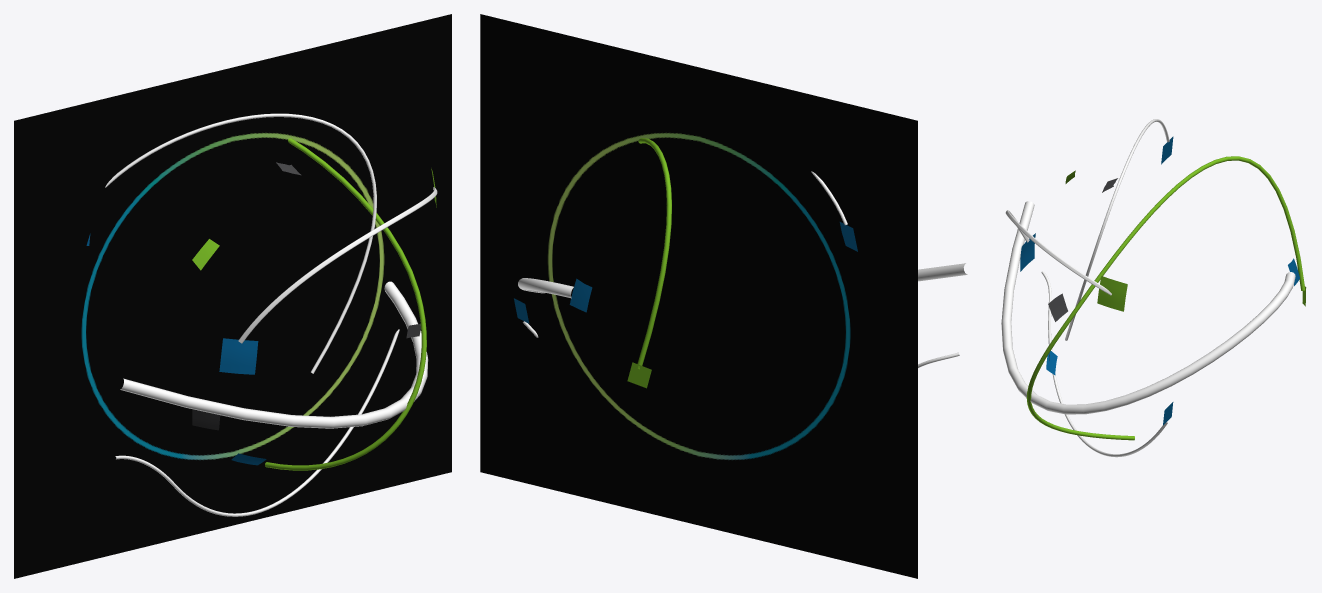
Rendered from sps-globe.glb.
3 renders of one model, left to right at view 1: azimuth 30°, elevation 25°; view 2: azimuth 150°, elevation 25°; view 3: azimuth 270°, elevation 25°, orthographic. The views are drawn at different scales.
Parts seen in each view (by area): view 1: border, BézierCurve.001, BézierCurve.002, BézierCurve.003, BézierCurve.004, BézierCurve, Sphere.001; view 2: border, BézierCurve.002, BézierCurve.001; view 3: BézierCurve.001, BézierCurve.002, BézierCurve.003, BézierCurve.004, Sphere.011, BézierCurve.
Part boxes in pixels (box(x1,y1,x2,y2)): border: box(14, 14, 451, 578); BézierCurve.001: box(120, 281, 428, 428); BézierCurve.002: box(265, 138, 426, 470); BézierCurve.003: box(105, 113, 376, 373); BézierCurve.004: box(115, 329, 399, 516); BézierCurve: box(238, 187, 437, 343); Sphere.001: box(219, 338, 258, 374); border: box(480, 14, 917, 578); BézierCurve.002: box(637, 138, 671, 369); BézierCurve.001: box(518, 263, 967, 298); BézierCurve.001: box(1001, 201, 1295, 414); BézierCurve.002: box(1026, 156, 1304, 440); BézierCurve.003: box(1065, 119, 1169, 340); BézierCurve.004: box(1041, 271, 1167, 457); Sphere.011: box(1097, 276, 1127, 311); BézierCurve: box(1005, 210, 1111, 295).
Size of the model in its own units: 2.89 by 2.89 by 2.08.
Materials: 8 (1 with a texture image).
